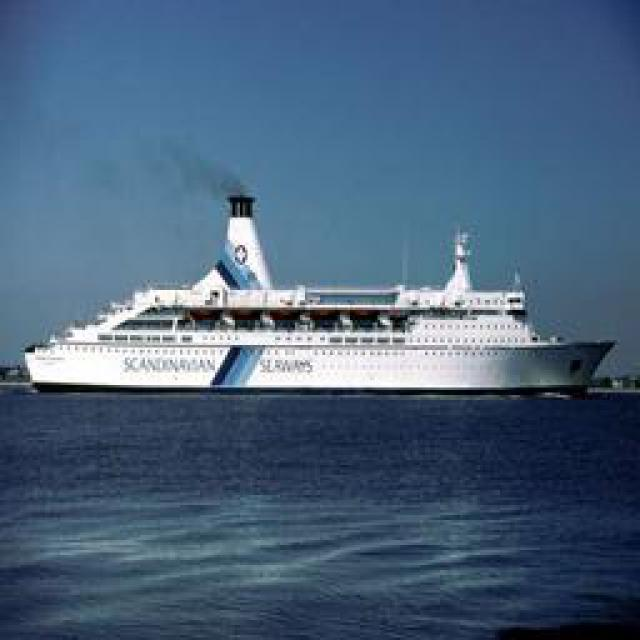Ship: (25, 197, 620, 395)
